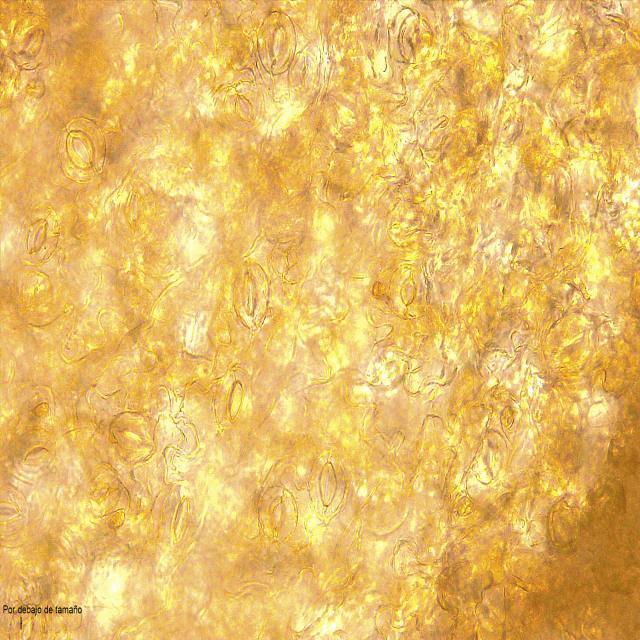Stomata: (56, 116, 108, 184), (158, 482, 196, 558), (231, 260, 270, 333), (113, 178, 157, 242), (17, 205, 61, 268), (308, 450, 347, 519), (257, 10, 297, 75), (10, 10, 51, 71), (108, 410, 156, 462), (257, 485, 299, 543), (214, 366, 252, 430), (81, 462, 123, 518), (11, 428, 58, 477), (390, 263, 428, 319), (223, 80, 263, 133), (398, 13, 431, 64), (0, 485, 29, 536), (288, 49, 316, 94)
